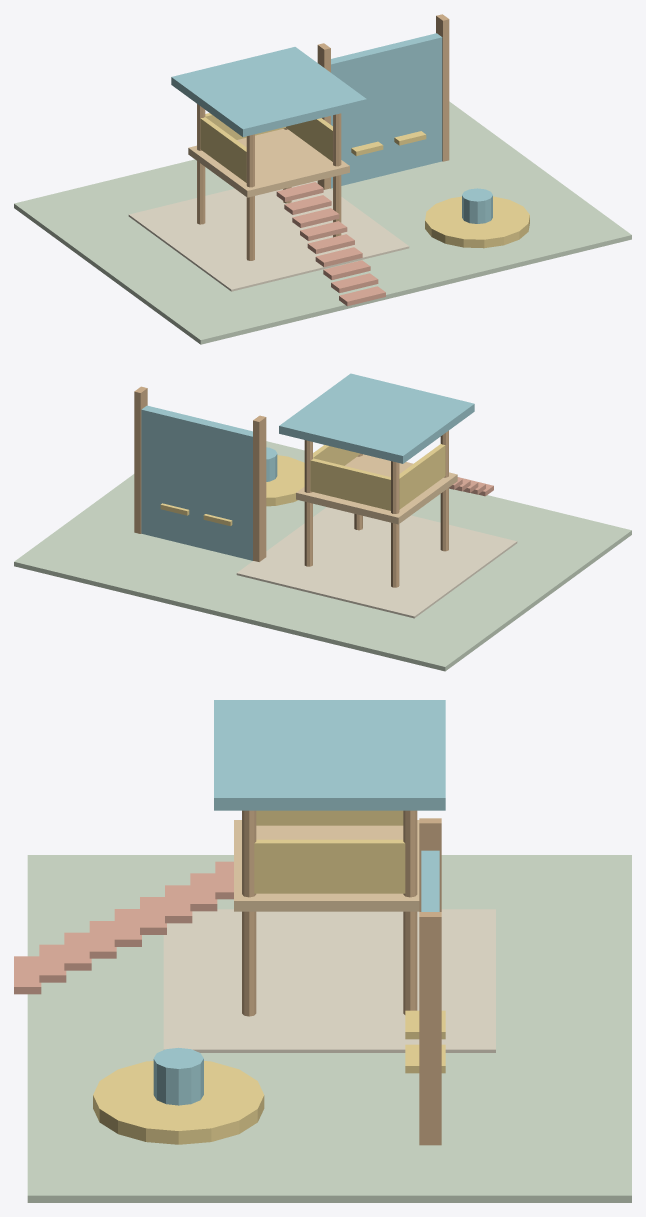
The model's file is playground.glb.
3 renders of one model, top to bottom at view 1: azimuth 30°, elevation 25°; view 2: azimuth 150°, elevation 25°; view 3: azimuth 270°, elevation 25°, orthographic. The views are drawn at different scales.
Size of the model in its own units: 8 by 2.64 by 6.13.
